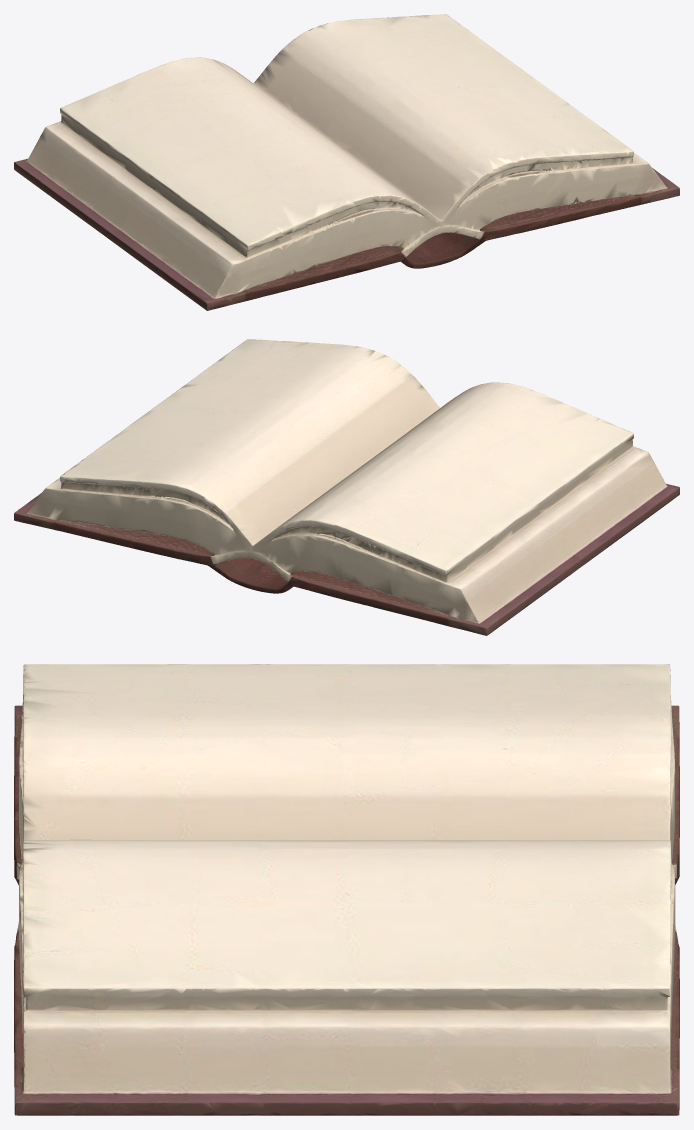
File: book.glb
3 views of the same model, one above another, from view 1: azimuth 30°, elevation 25°; view 2: azimuth 150°, elevation 25°; view 3: azimuth 270°, elevation 25° (orthographic). The views are drawn at different scales.
Bounding box in the file's own units: 1.9 × 0.3529 × 1.35.
Materials: 1 (1 with a texture image).
